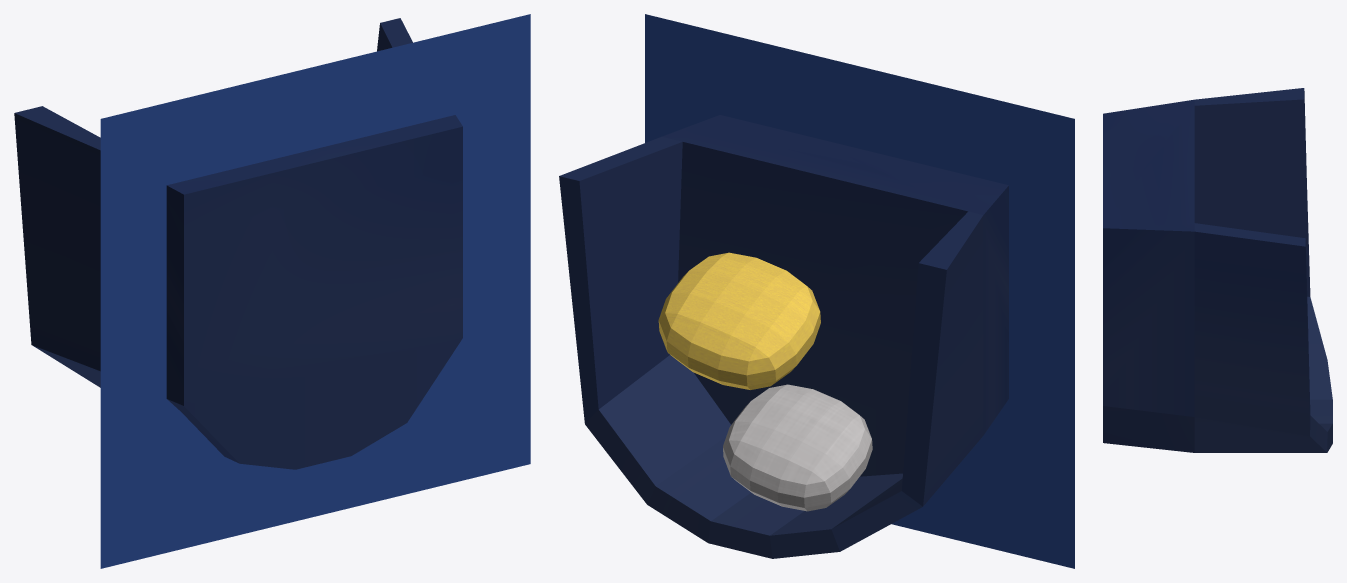
File: LoungeRoom_Sofa.fbx
The picture shows the model from 3 angles, left to right: view 1: azimuth 30°, elevation 25°; view 2: azimuth 150°, elevation 25°; view 3: azimuth 270°, elevation 25°; orthographic projection. The views are drawn at different scales.
Visible parts, largest first — view 1: Plane.277, Sofa; view 2: Sofa, Plane.277; view 3: Sofa.
Boxes of the visible parts, bbox=[...] form: Plane.277: bbox=[100, 14, 530, 568]; Sofa: bbox=[14, 18, 462, 469]; Sofa: bbox=[559, 115, 1008, 558]; Plane.277: bbox=[645, 14, 1074, 568]; Sofa: bbox=[1103, 88, 1332, 452].
Bounding box in the file's own units: 2 × 2 × 1.1.
